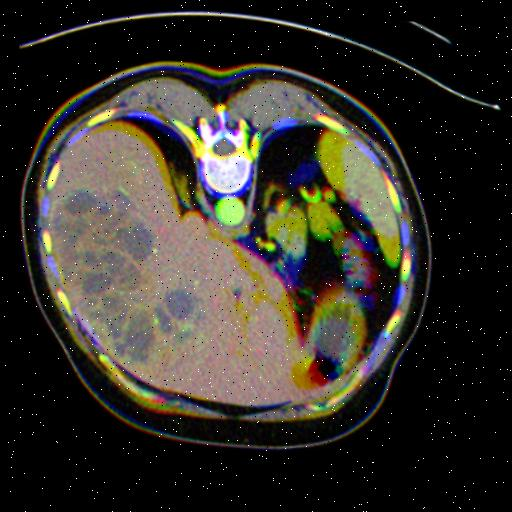Tumor: (49, 187, 202, 374)
